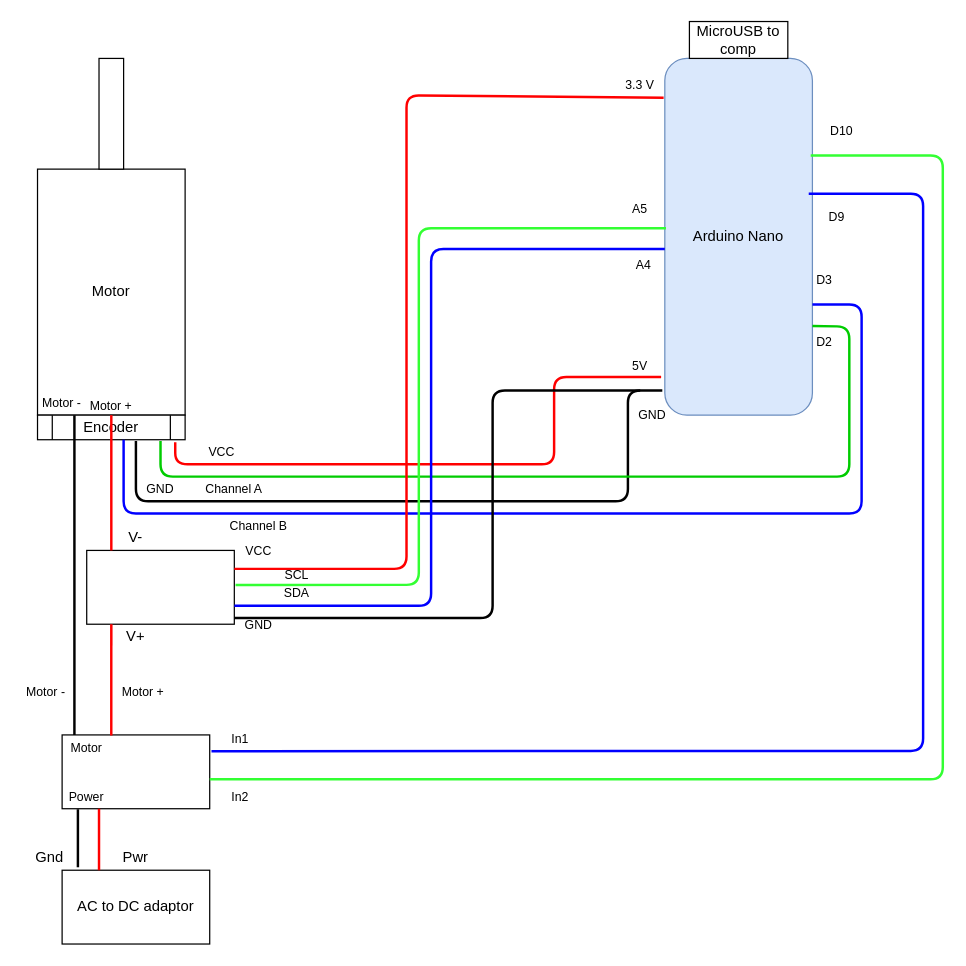
This 966x966 diagram has some shape labels left out. Each missing label, with the box of its shape:
Current Sensor: (85, 549, 234, 624)
H-Bridge Motor Driver: (61, 734, 210, 809)
